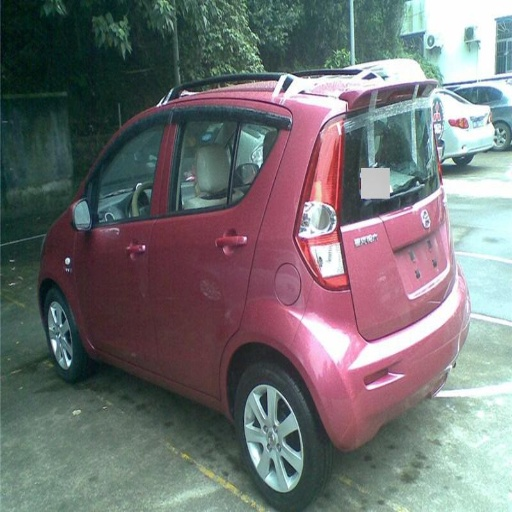back_bumper: (309, 274, 470, 444)
back_glass: (353, 152, 430, 192)
back_left_door: (151, 100, 278, 392)
tailgate: (346, 93, 411, 150)
trunk: (345, 194, 453, 341)
